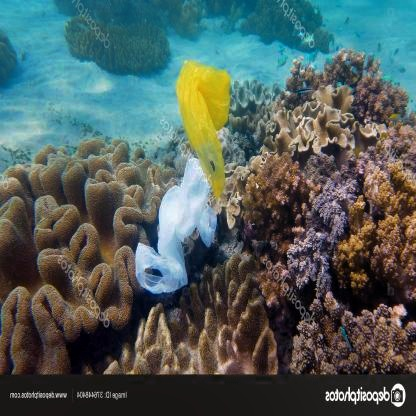pbag: (134, 154, 218, 294), (176, 59, 231, 196)
